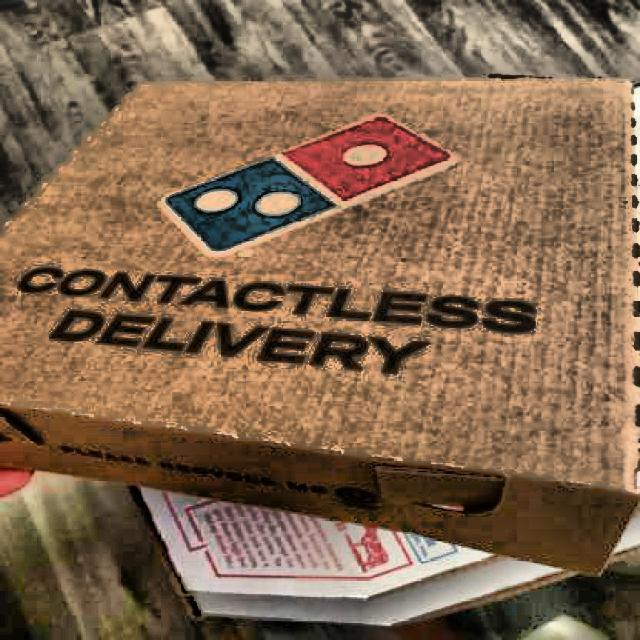Cardbox: (0, 64, 640, 570)
